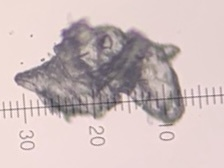microplastic: (14, 19, 186, 123)
